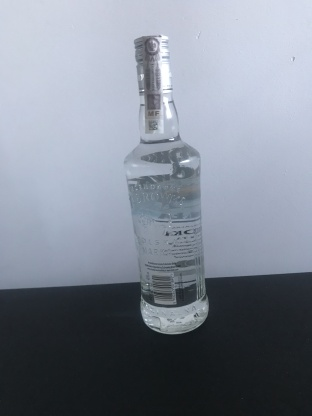nakretka: (130, 31, 176, 97)
